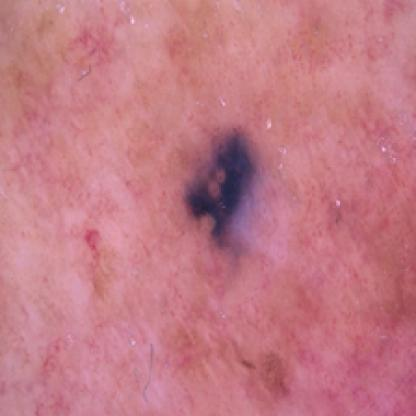benign: (173, 111, 288, 286)
